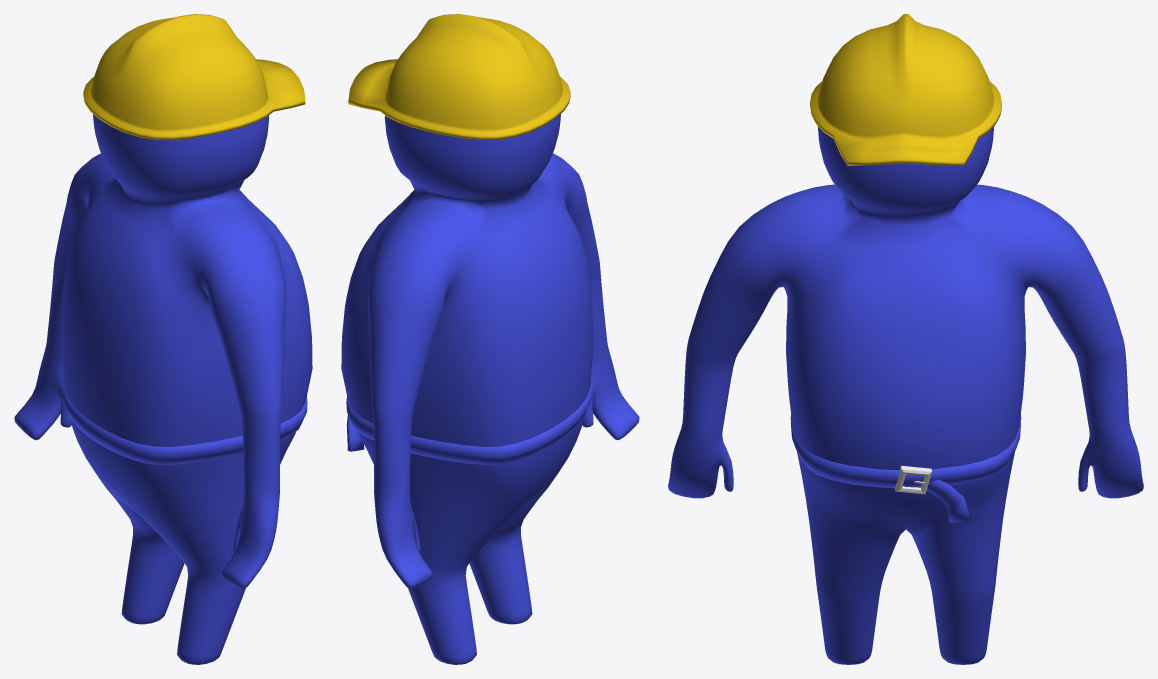
The model's file is Player_Mesh2.fbx.
3 views of the same model, side by side, from view 1: azimuth 30°, elevation 25°; view 2: azimuth 150°, elevation 25°; view 3: azimuth 270°, elevation 25° (orthographic). The views are drawn at different scales.
Visible parts, largest first — view 1: Cube.001, Cube.000, Cube.002; view 2: Cube.001, Cube.000, Cube.002; view 3: Cube.001, Cube.000, Cube.002.
Part boxes in pixels (x1,y1,x2,y2): Cube.001: (14, 114, 312, 664); Cube.000: (83, 14, 305, 140); Cube.002: (62, 387, 307, 465); Cube.001: (341, 114, 639, 664); Cube.000: (348, 14, 570, 139); Cube.002: (346, 386, 591, 464); Cube.001: (668, 126, 1143, 664); Cube.000: (810, 14, 1001, 165); Cube.002: (790, 414, 1021, 522).
Size of the model in its own units: 75.48 by 214 by 144.
